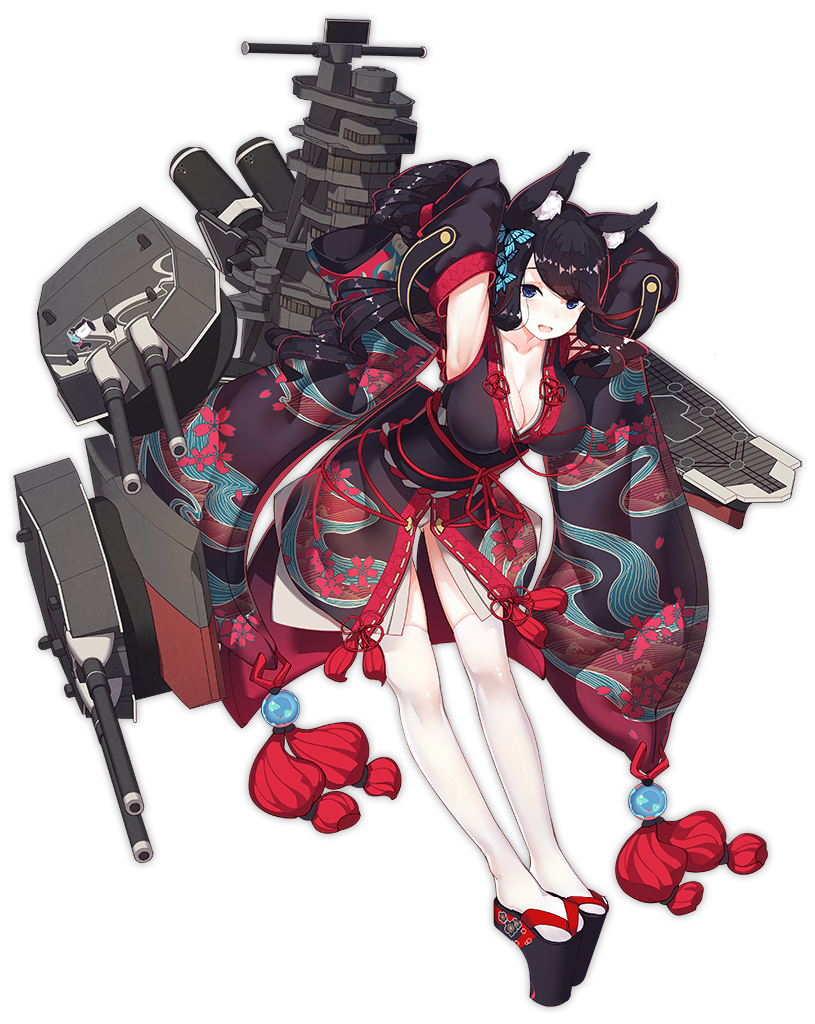person: (66, 156, 752, 1024)
